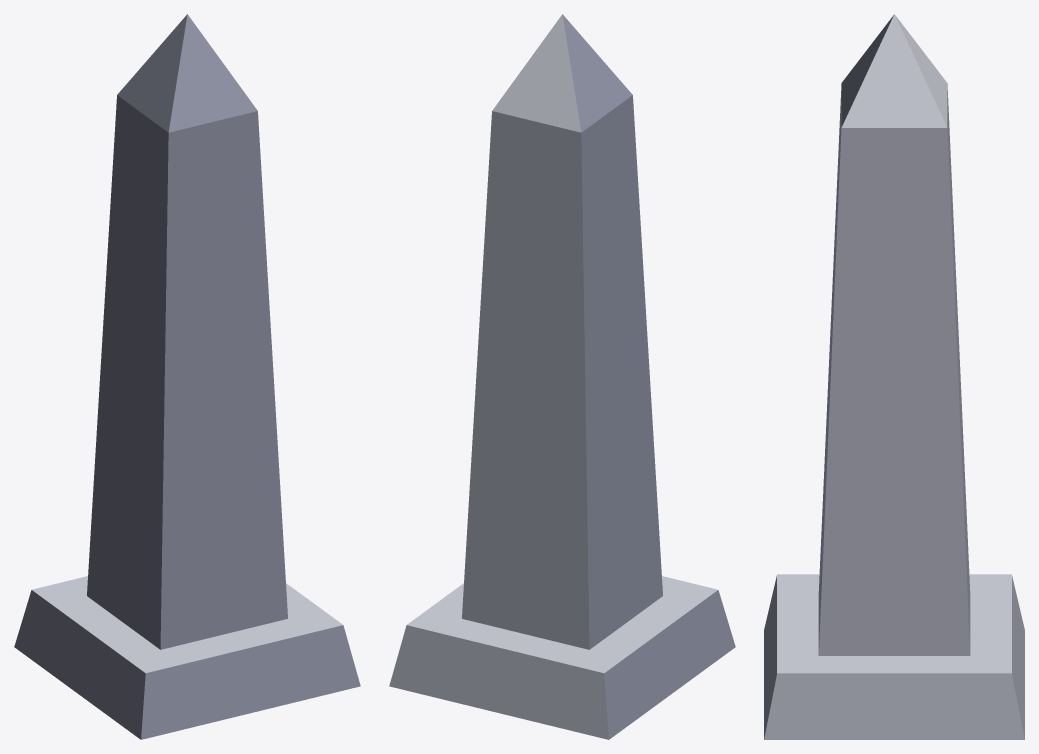
Rendered from statue_obelisk.glb.
3 views of the same model, side by side, from view 1: azimuth 30°, elevation 25°; view 2: azimuth 150°, elevation 25°; view 3: azimuth 270°, elevation 25° (orthographic). The views are drawn at different scales.
Visible parts, largest first — view 1: statue_obelisk; view 2: statue_obelisk; view 3: statue_obelisk.
Boxes of the visible parts, bbox=[...] form: statue_obelisk: bbox=[14, 14, 360, 739]; statue_obelisk: bbox=[389, 14, 735, 739]; statue_obelisk: bbox=[764, 14, 1024, 739].
Bounding box in the file's own units: 0.31 × 0.88 × 0.31.
Materials: 1 (1 with a texture image).
